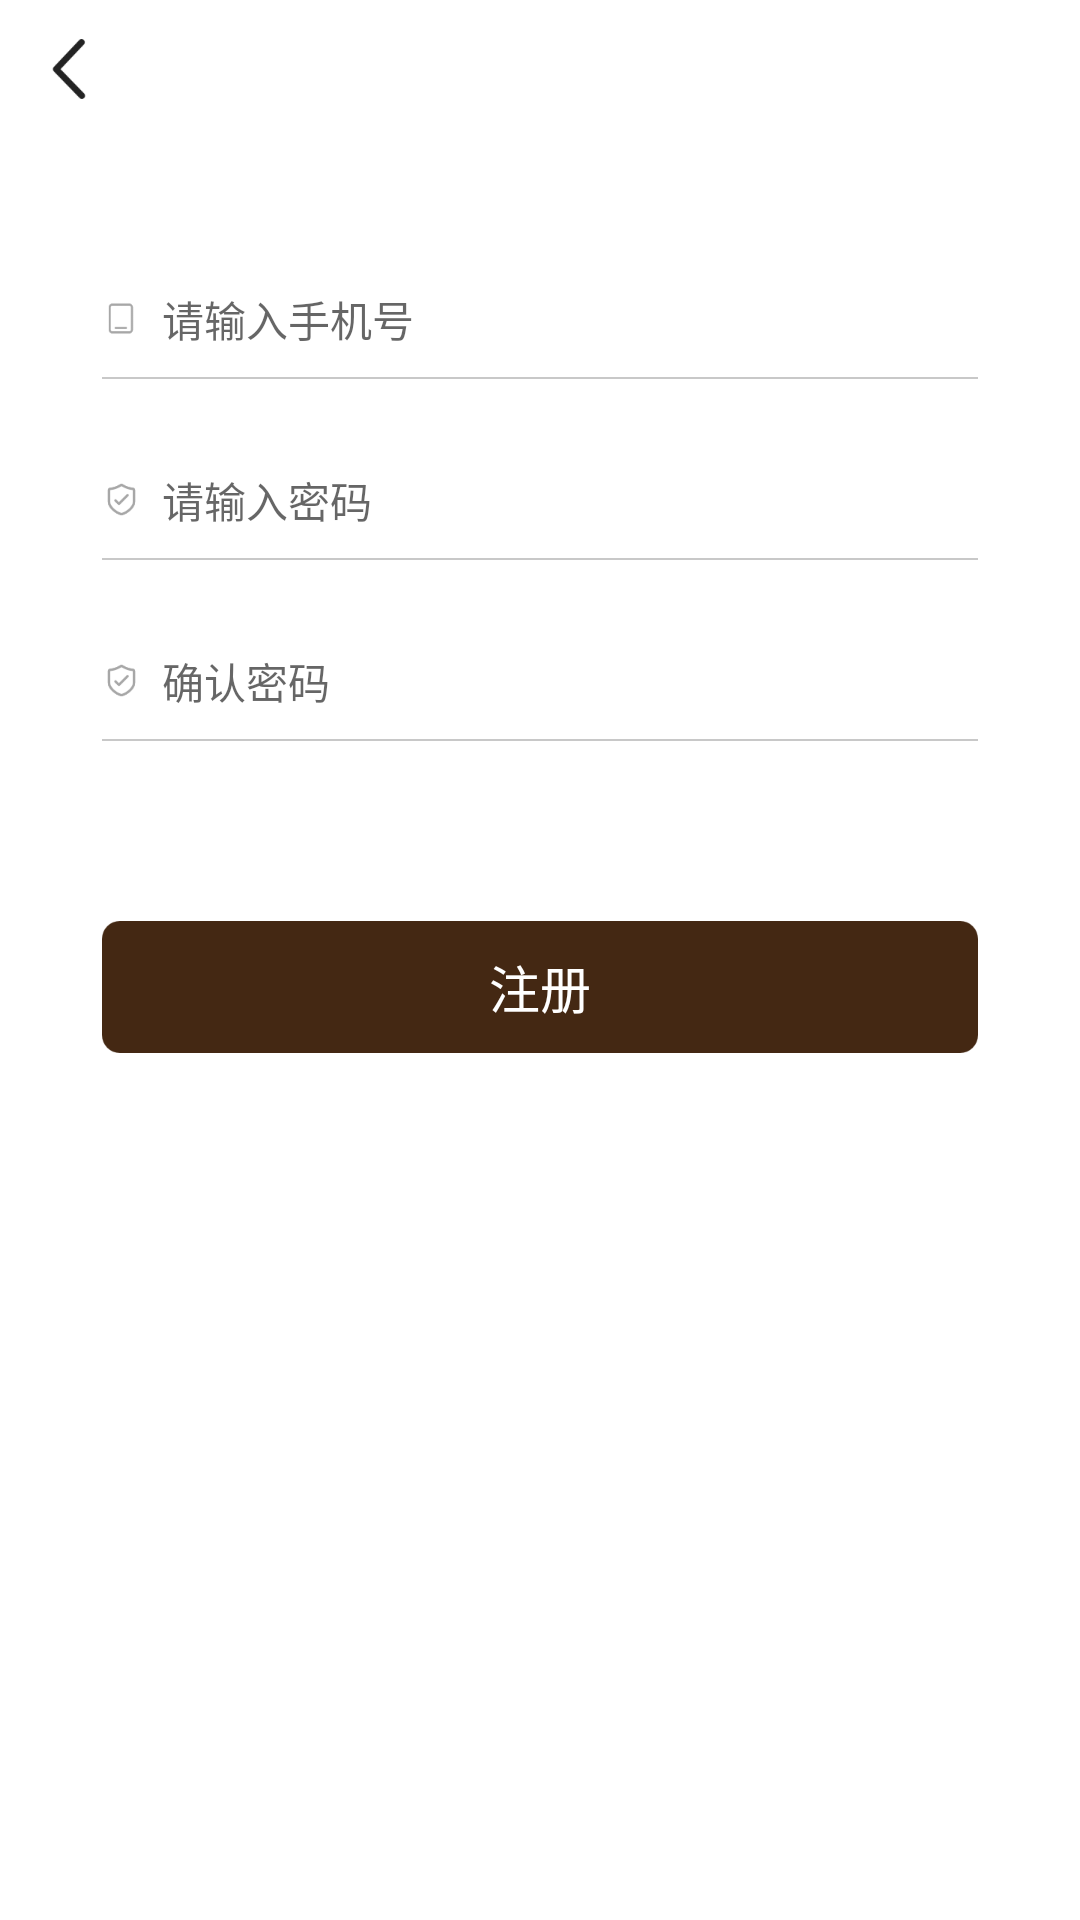

Named icons in this screenshot (1080px×1920px) and their centers, (x,y):
arrow left: (69,69)
password: (122,499), (122,680)
phone: (121,318)
